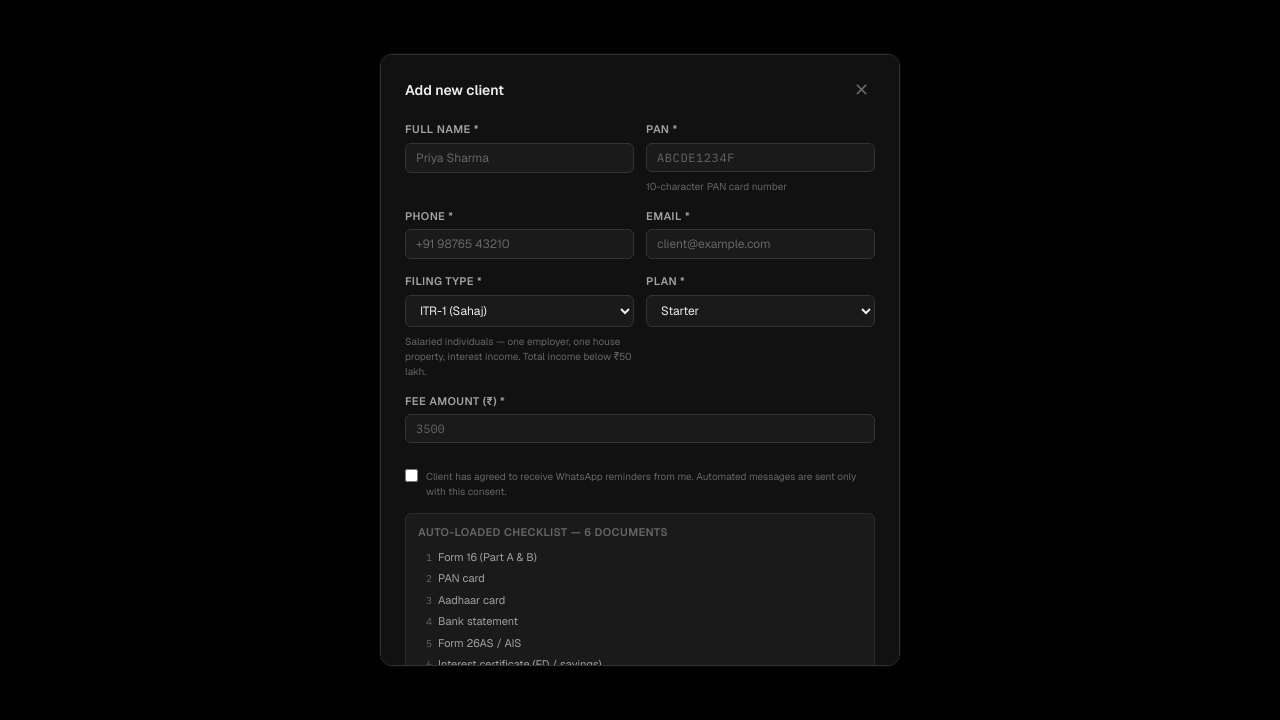
ClientFormModal — validation › zero fee amount rejected
Type "0" into the number field with placeholder "3500" at (640, 428), box [405,414,875,443]
(page scrolled)
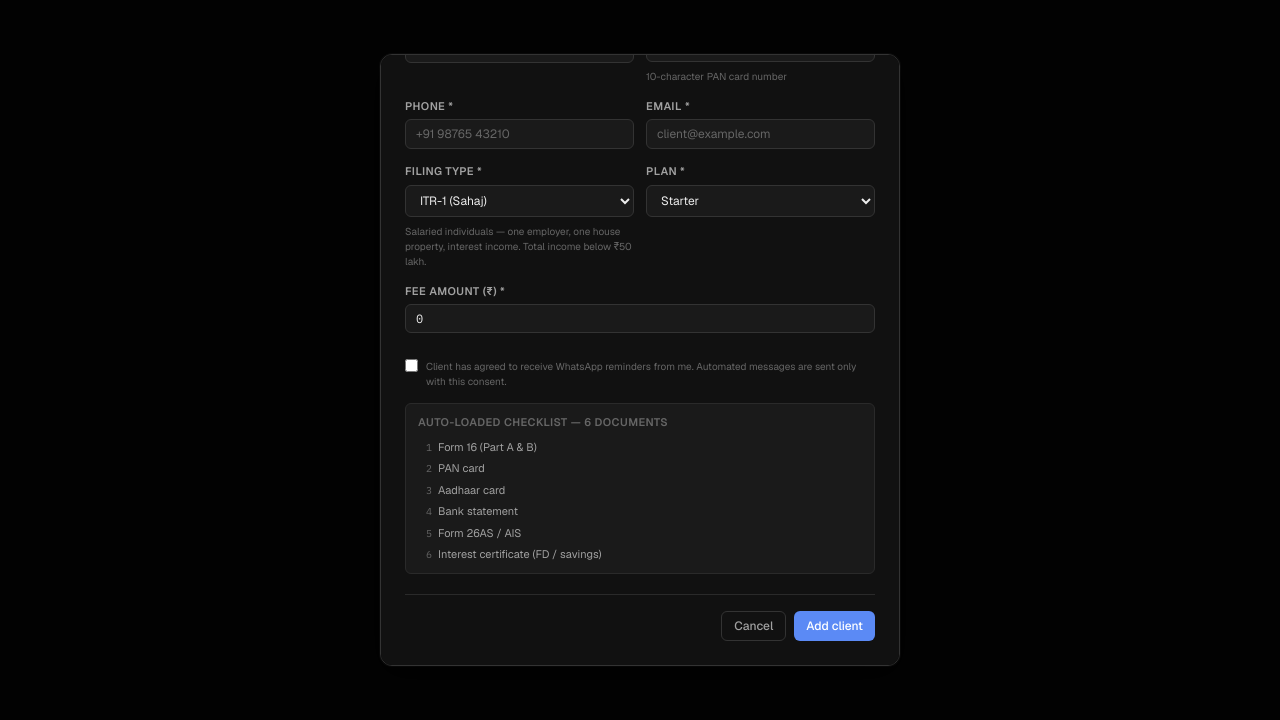
Click the button "Add client" at (835, 626), box [794,610,875,640]
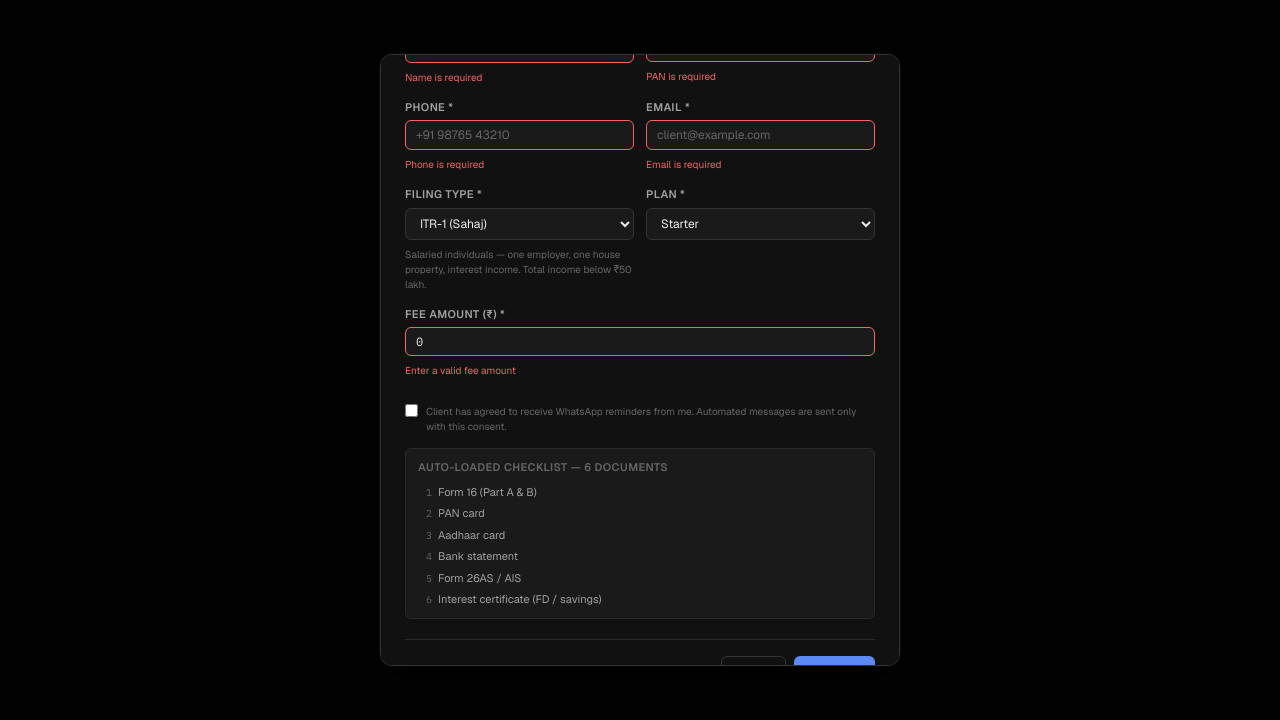
Check: the text "Enter a valid fee amount" is shown, box [405,364,516,377]
